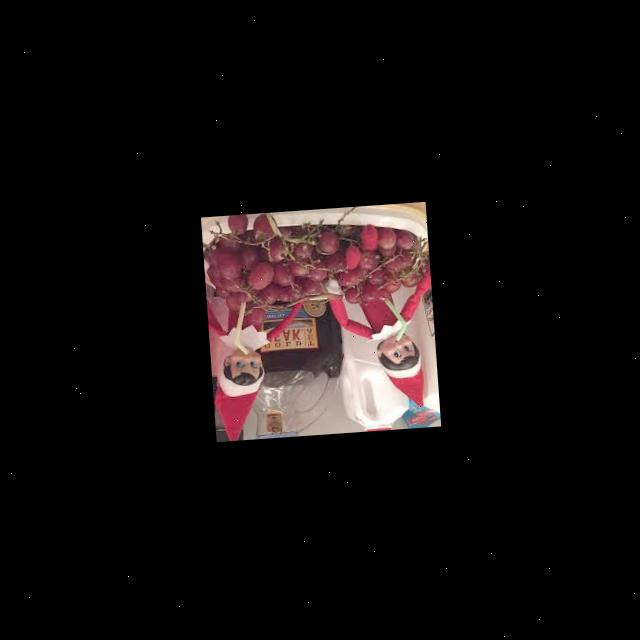grape: (200, 201, 430, 317)
